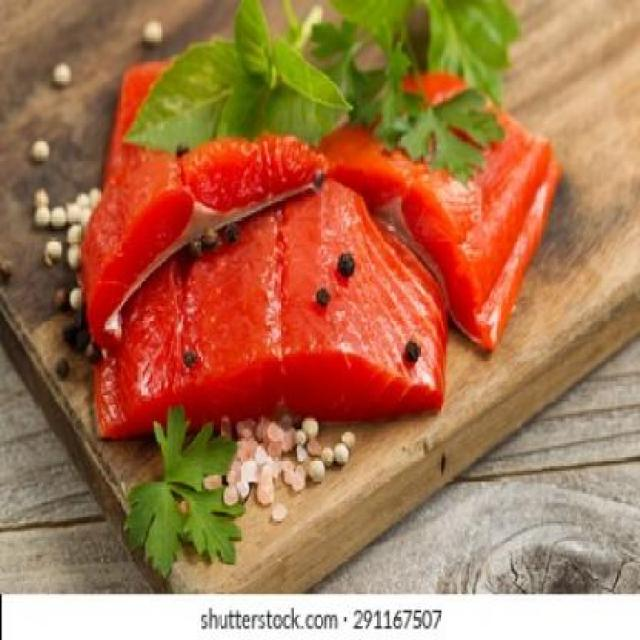salmon: (91, 169, 457, 439), (294, 41, 566, 357), (54, 100, 341, 347), (91, 18, 357, 231)
